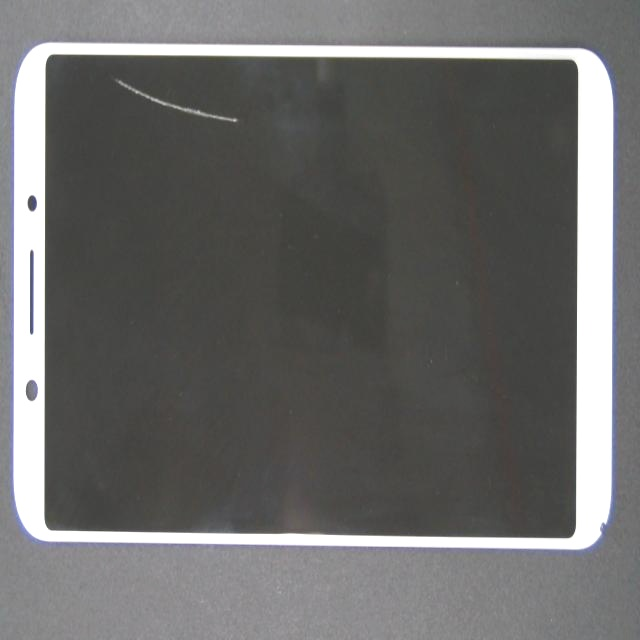scratch: (196, 74, 315, 139)
